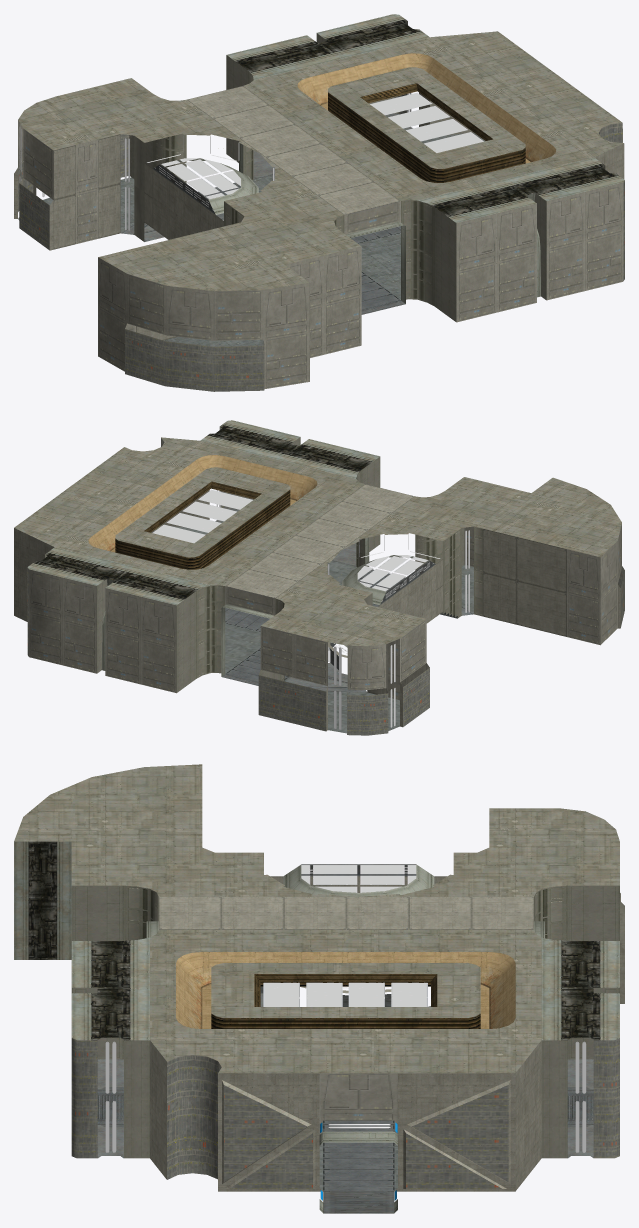
File: thm_tato_lucky_despot_r2_cafe_mesh_r2.fbx
3 views of the same model, one above another, from view 1: azimuth 30°, elevation 25°; view 2: azimuth 150°, elevation 25°; view 3: azimuth 270°, elevation 25° (orthographic). The views are drawn at different scales.
Parts seen in each view (by area): view 1: mesh_node; view 2: mesh_node; view 3: mesh_node.
Part boxes in pixels (box(x1,y1,x2,y2)): mesh_node: box(14, 14, 624, 391); mesh_node: box(14, 420, 624, 735); mesh_node: box(14, 764, 624, 1213).
Bounding box in the file's own units: 30 × 5 × 23.4.
